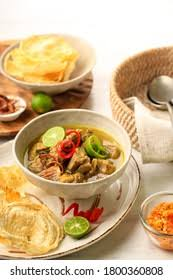soto: (4, 99, 141, 193)
